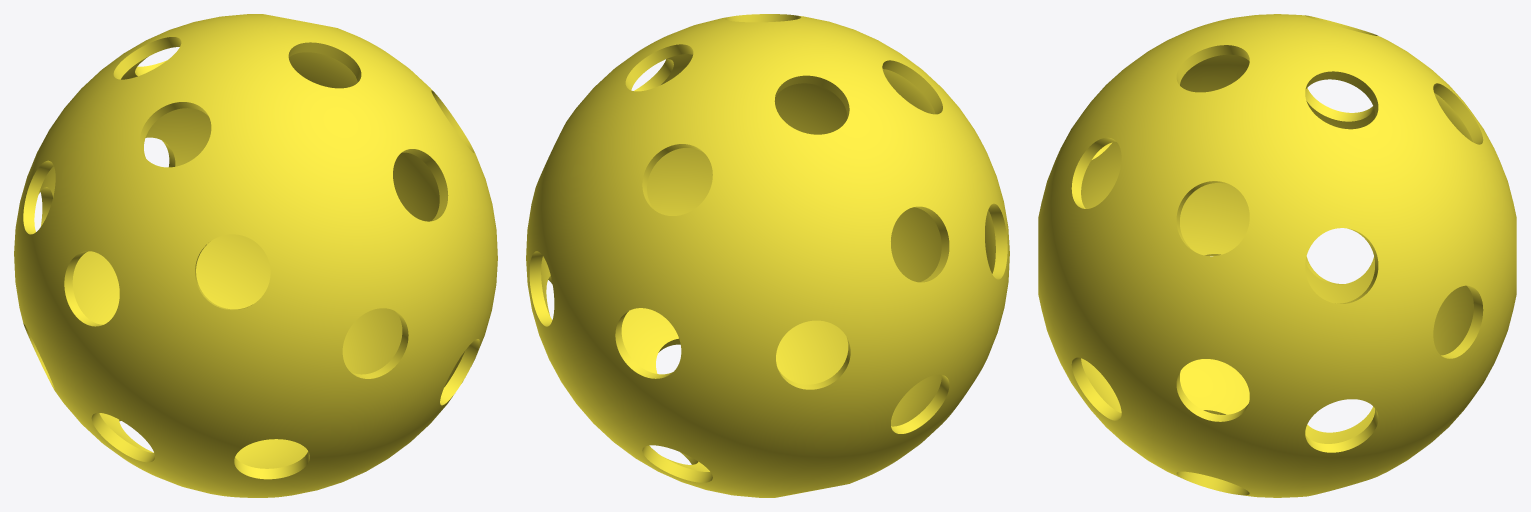
The model's file is pollen.obj.
The picture shows the model from 3 angles, left to right: view 1: azimuth 30°, elevation 25°; view 2: azimuth 150°, elevation 25°; view 3: azimuth 270°, elevation 25°; orthographic projection.
Parts seen in each view (by area): view 1: mesh1, mesh14, mesh15, mesh16, mesh17, mesh0, mesh4, mesh12, mesh9, mesh11, mesh2, mesh13 (+1 smaller); view 2: mesh15, mesh14, mesh1, mesh2, mesh27, mesh26, mesh3, mesh23, mesh18, mesh16, mesh17, mesh28 (+2 smaller); view 3: mesh15, mesh1, mesh14, mesh12, mesh24, mesh11, mesh4, mesh27, mesh7, mesh21, mesh23, mesh17 (+1 smaller).
Boxes of the visible parts, bbox=[...] form: mesh1: bbox=[46, 30, 497, 497]; mesh14: bbox=[39, 52, 464, 468]; mesh15: bbox=[14, 14, 388, 444]; mesh16: bbox=[113, 37, 181, 79]; mesh17: bbox=[23, 160, 53, 234]; mesh0: bbox=[91, 413, 154, 462]; mesh4: bbox=[288, 42, 361, 82]; mesh12: bbox=[440, 339, 479, 405]; mesh9: bbox=[234, 451, 309, 479]; mesh11: bbox=[402, 149, 448, 221]; mesh2: bbox=[64, 251, 102, 326]; mesh13: bbox=[351, 311, 408, 378]; mesh15: bbox=[526, 30, 977, 497]; mesh14: bbox=[541, 54, 995, 471]; mesh1: bbox=[635, 15, 1009, 443]; mesh2: bbox=[988, 203, 1007, 279]; mesh27: bbox=[529, 251, 552, 326]; mesh26: bbox=[642, 445, 712, 482]; mesh3: bbox=[882, 60, 942, 114]; mesh23: bbox=[625, 44, 693, 90]; mesh18: bbox=[891, 374, 949, 433]; mesh16: bbox=[775, 75, 849, 118]; mesh17: bbox=[914, 206, 949, 282]; mesh28: bbox=[615, 311, 672, 378]; mesh15: bbox=[1277, 14, 1516, 497]; mesh1: bbox=[1038, 14, 1277, 497]; mesh14: bbox=[1081, 54, 1473, 443]; mesh12: bbox=[1071, 357, 1121, 420]; mesh24: bbox=[1433, 83, 1483, 144]; mesh11: bbox=[1071, 137, 1116, 208]; mesh4: bbox=[1176, 45, 1249, 85]; mesh27: bbox=[1441, 285, 1483, 358]; mesh7: bbox=[1176, 471, 1249, 495]; mesh21: bbox=[1305, 408, 1378, 452]; mesh23: bbox=[1305, 71, 1378, 117]; mesh17: bbox=[1305, 88, 1373, 121].
Size of the model in its own units: 0.0711 by 0.071 by 0.0702.
